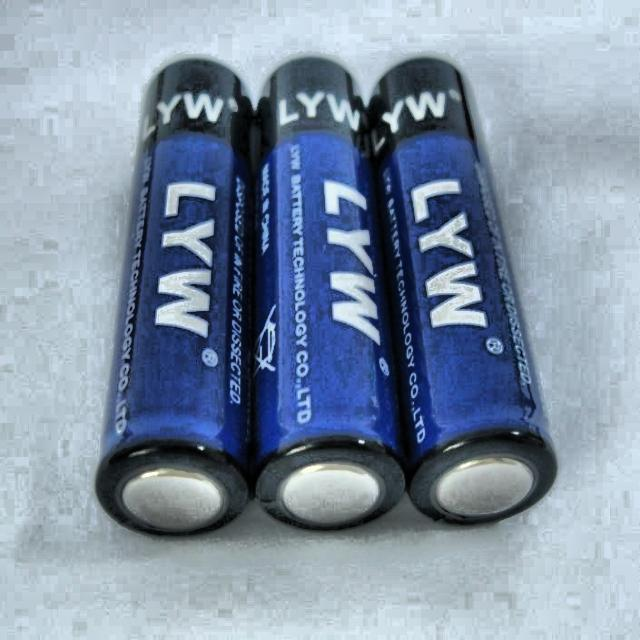Non-Valuable Waste - Batteries: (369, 58, 556, 524), (96, 58, 252, 535), (252, 57, 405, 530)
